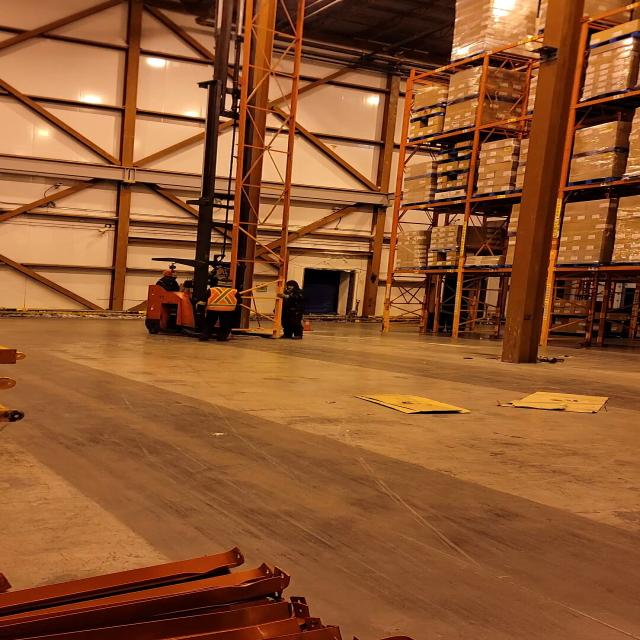forklift: (140, 197, 276, 343)
human: (191, 274, 246, 344), (264, 276, 316, 340), (147, 268, 186, 292)
objectofinterest: (233, 19, 302, 348), (347, 389, 475, 417), (494, 388, 615, 416)
